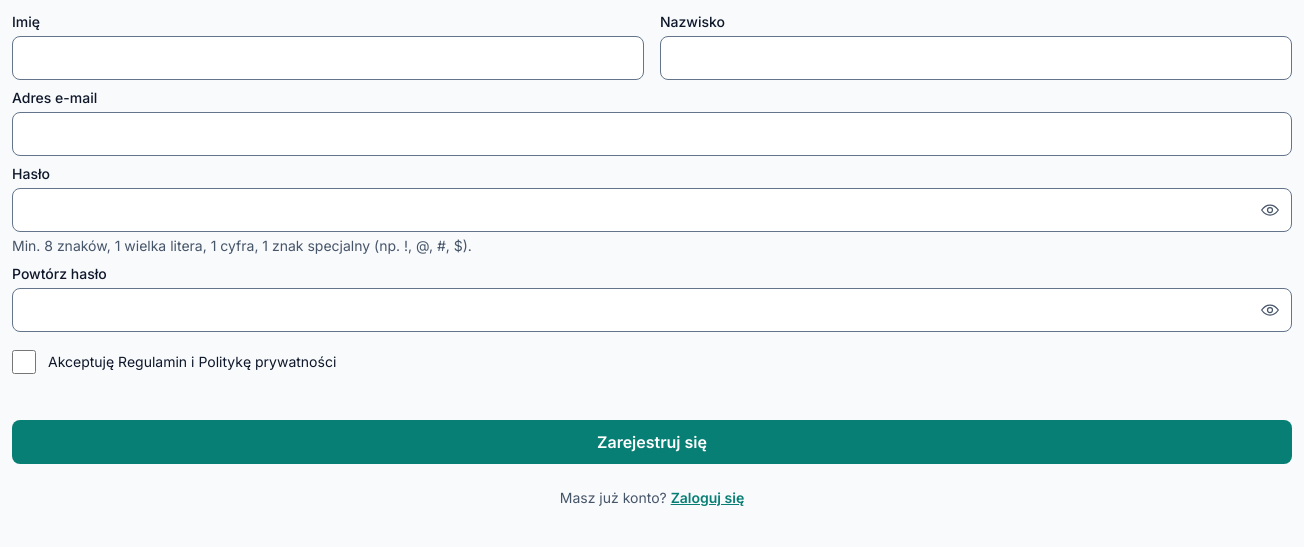
Test: RegisterForm › shows our message instead of the native e-mail bubble
Type "Jan" into the field labelled "Imię". click: (328, 58)
box: [12,36,644,80]
Type "Kowalski" into the field labelled "Nazwisko". click: (976, 58)
box: [660,36,1292,80]
Type "jan@example.com" into the field labelled "Adres e-mail". click: (652, 134)
box: [12,112,1292,156]
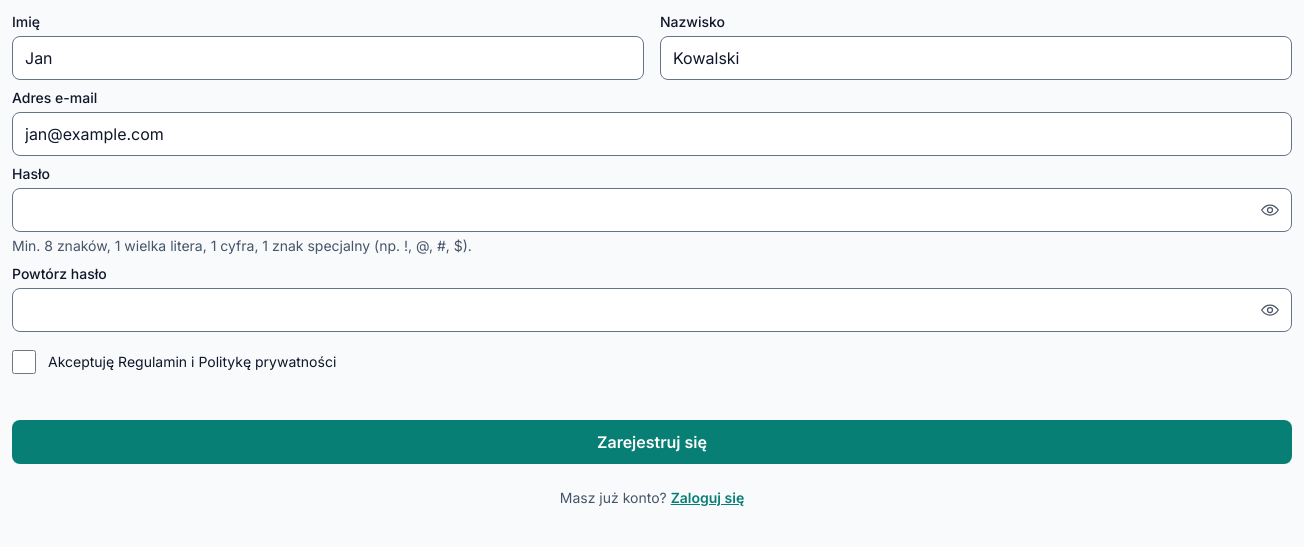
Type "Haslo123!" into the password field labelled "Hasło". click: (652, 210)
box: [12,188,1292,232]
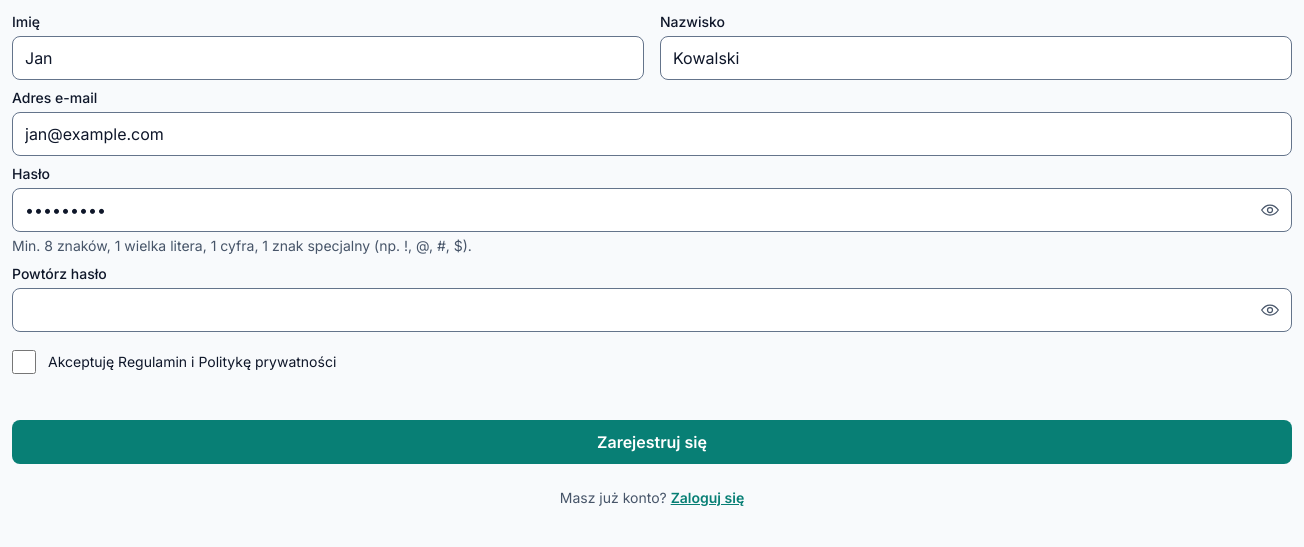
Type "Haslo123!" into the password field labelled "Powtórz hasło". click: (652, 310)
box: [12,288,1292,332]
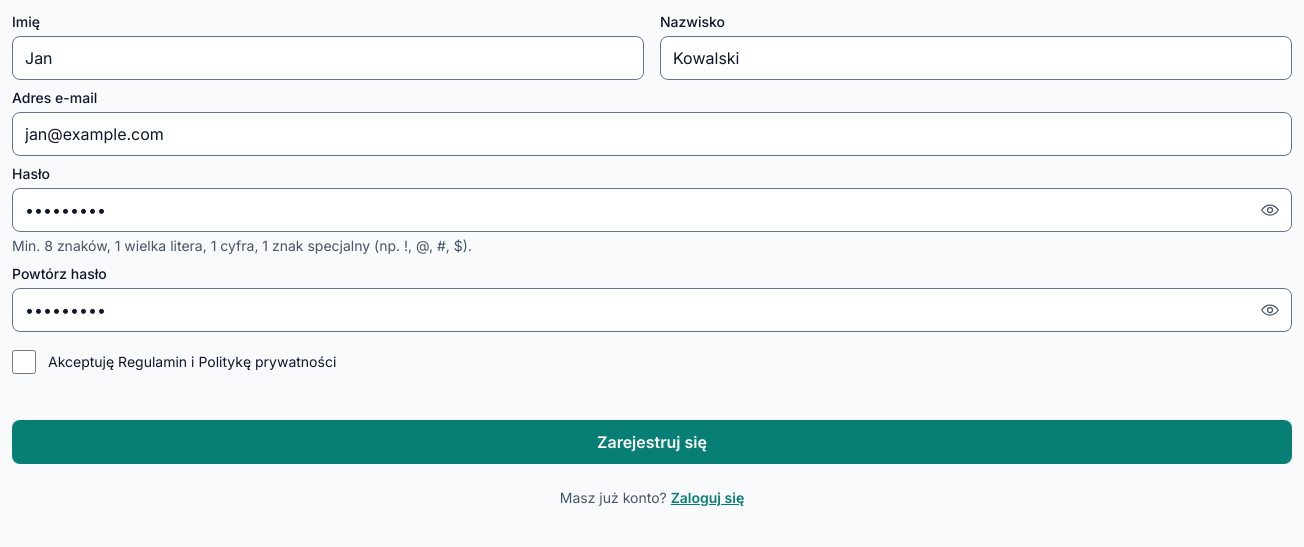
Click the checkbox labelled "Akceptuję Regulamin i Politykę prywatności". click: (24, 362)
box: [12,350,36,374]
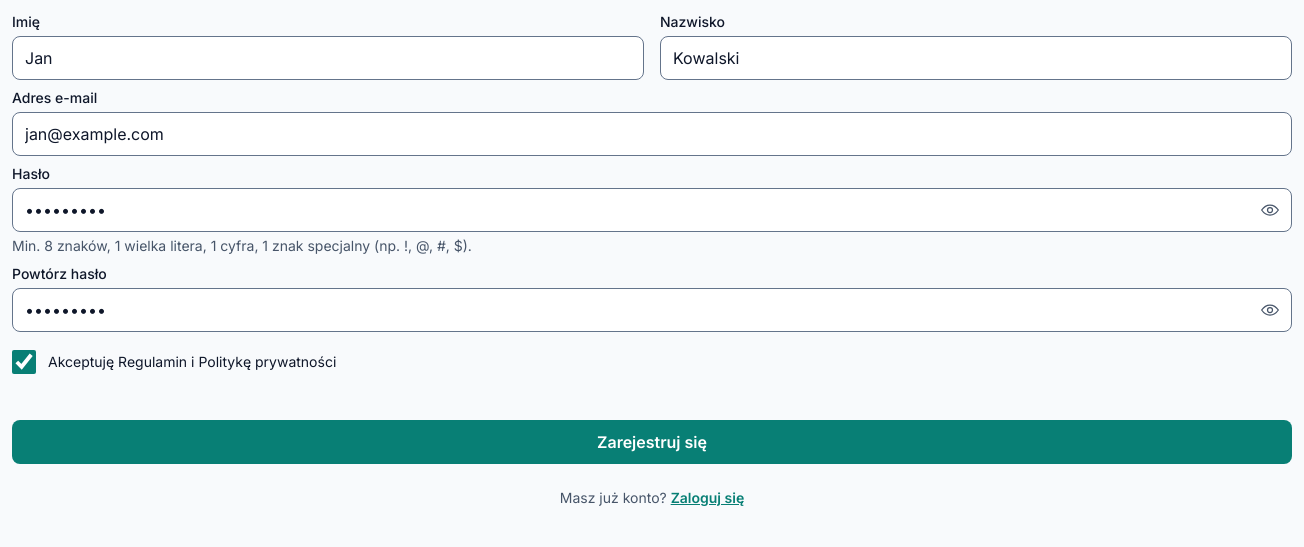
Replace the text in the field labelled "Adres e-mail" with "jan". click: (652, 134)
box: [12,112,1292,156]
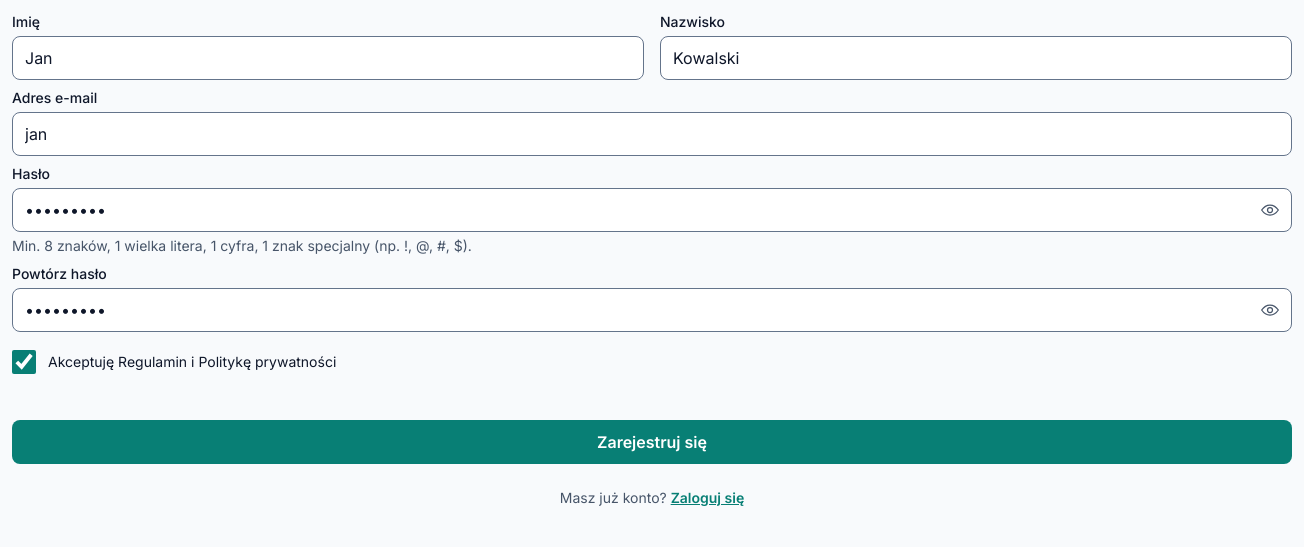
Click the button "Zarejestruj się". click: (652, 442)
box: [12,420,1292,464]
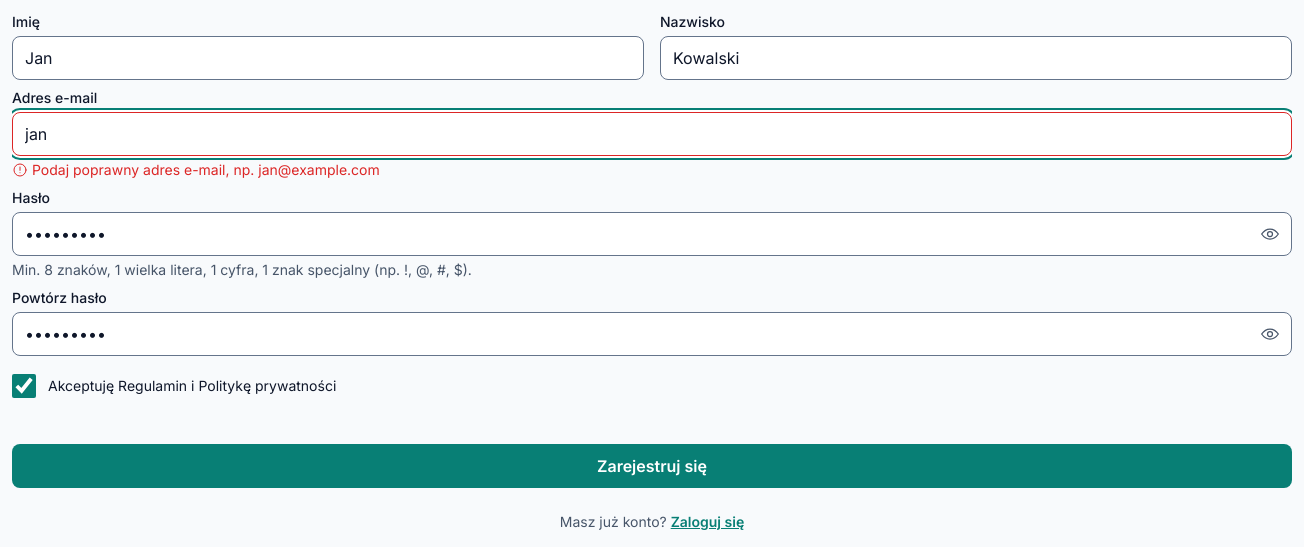
Result: the text "Podaj poprawny adres e-mail, np. jan@example.com" is shown at [12,161,380,178]
